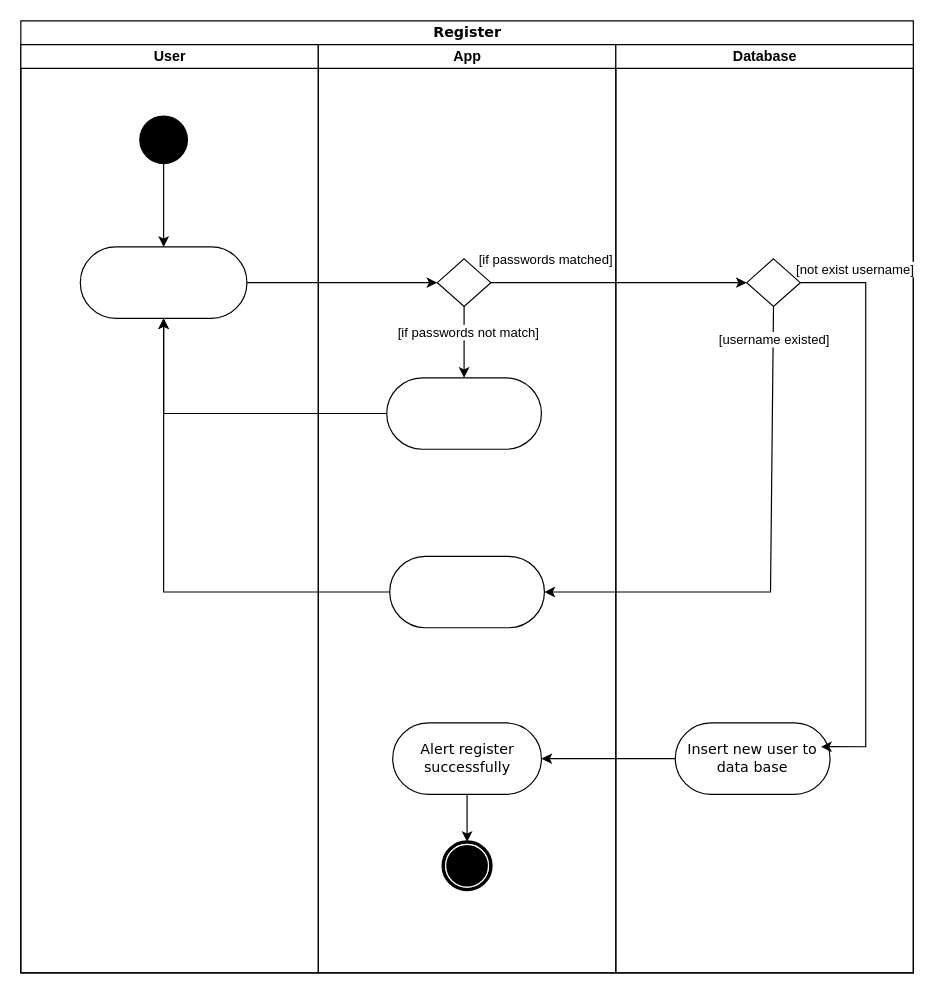
Image size: 934x994. Some labels were removed from this diagram. Here are the shapes that lost their labels. From the top down, the centre of each, then its label:
At (163,282): "Enter username and password and confirm password".
At (463,413): "Alert password and confirm password not match".
At (466,591): "Alert username already exists".
